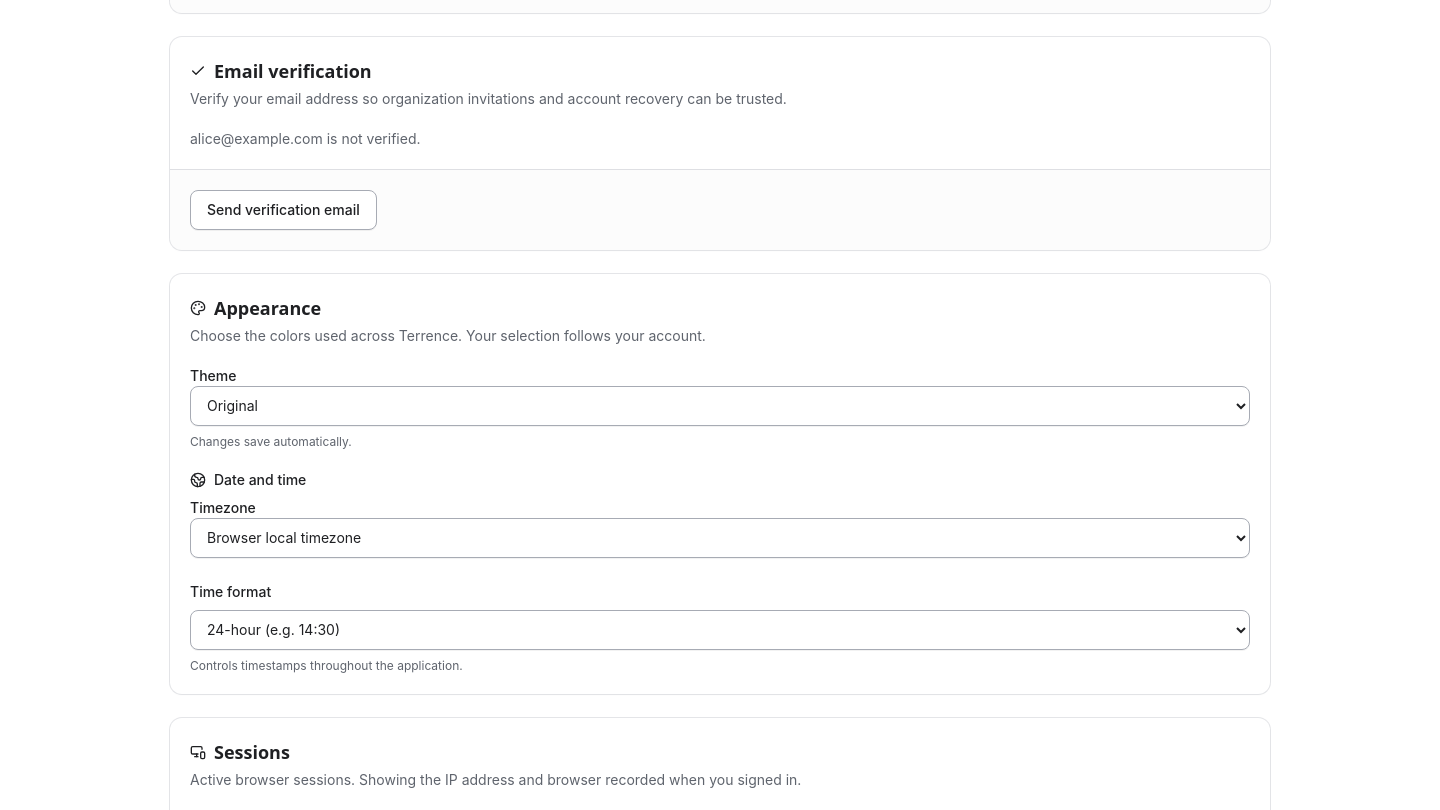
Scenario: lists extensible light/dark themes and persists a selection
This screenshot has width=1440, height=810.
(page scrolled)
Select "Dracula" in the dropdown labelled "Theme" at (720, 406), box [190,386,1250,426]
(page scrolled)
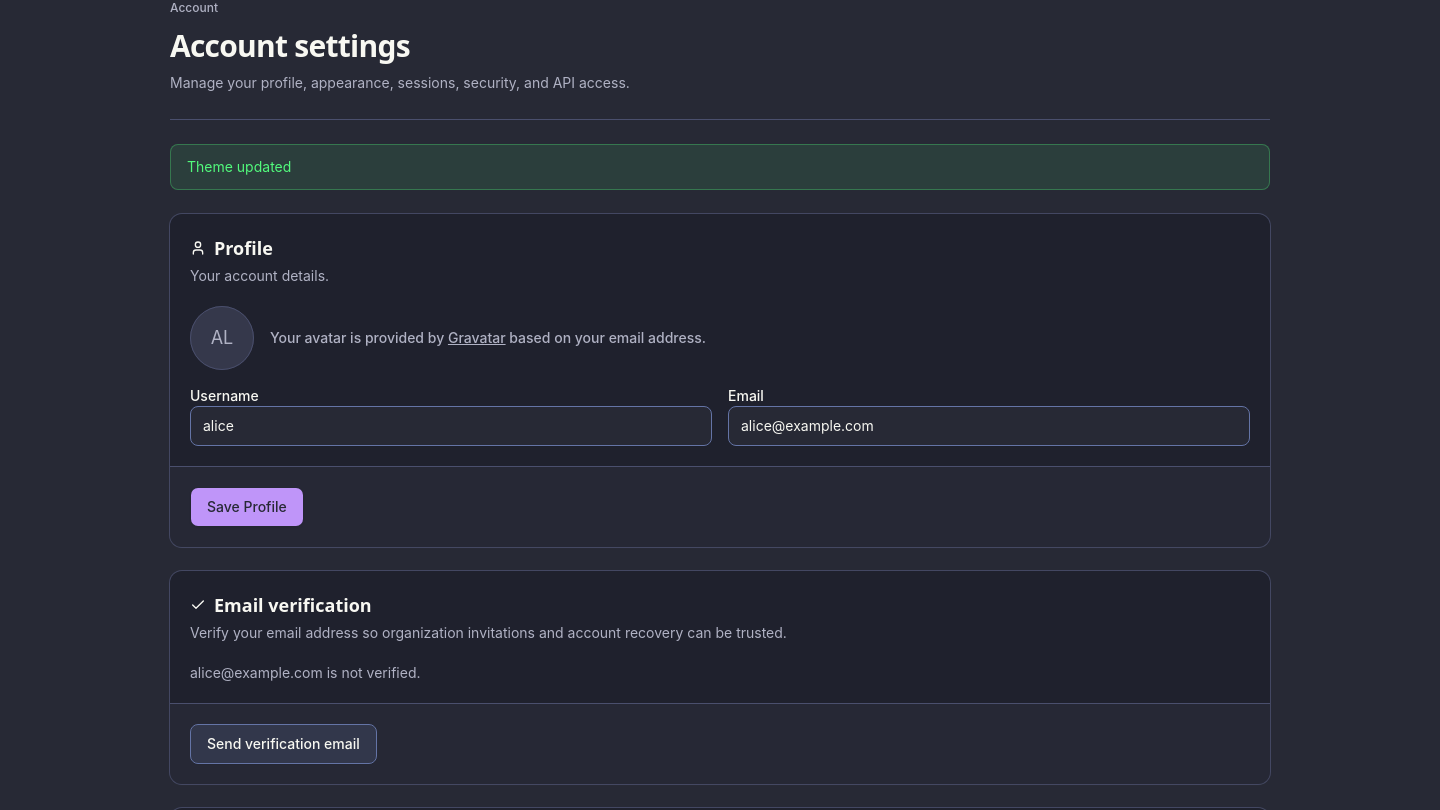
Now the text "Theme updated" is shown, box [170,144,1270,190]
